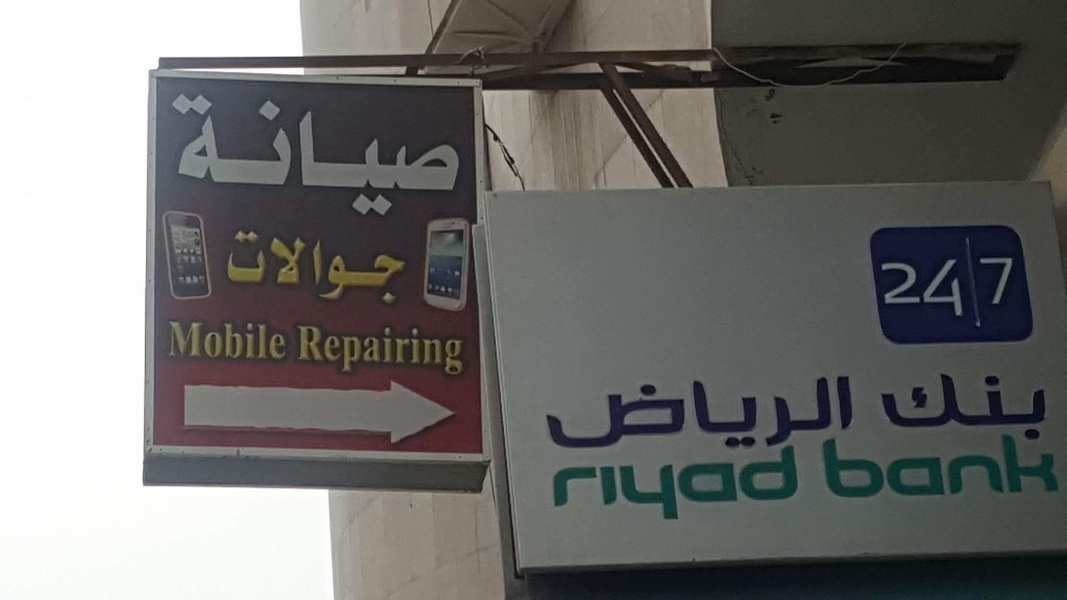text: (449, 91, 465, 220), (177, 91, 192, 220), (193, 91, 208, 220), (209, 91, 224, 220), (225, 91, 240, 220), (241, 91, 256, 220), (257, 91, 272, 220), (273, 91, 288, 220), (289, 91, 304, 220), (305, 91, 320, 220), (321, 91, 336, 220), (337, 91, 352, 220), (353, 91, 368, 220), (369, 91, 384, 220), (385, 91, 400, 220), (401, 91, 416, 220), (417, 91, 432, 220), (433, 91, 448, 220), (561, 444, 576, 524), (577, 444, 592, 524), (593, 444, 608, 524), (609, 444, 624, 524), (625, 444, 640, 524), (641, 444, 656, 524), (657, 444, 672, 524), (673, 444, 688, 524), (689, 444, 704, 524), (705, 444, 720, 524), (721, 444, 736, 524), (737, 444, 752, 524), (753, 444, 768, 524), (769, 444, 784, 524), (785, 444, 800, 524), (225, 226, 240, 306), (241, 226, 256, 306), (257, 226, 272, 306), (273, 226, 288, 306), (289, 226, 304, 306), (305, 226, 320, 306), (321, 226, 336, 306), (337, 226, 352, 306), (353, 226, 368, 306), (369, 226, 384, 306), (385, 226, 400, 306), (545, 375, 560, 453), (561, 375, 576, 453), (577, 375, 592, 453), (593, 375, 608, 453), (609, 375, 624, 453), (625, 375, 640, 453), (641, 375, 656, 453), (657, 375, 672, 453), (673, 375, 688, 453), (689, 375, 704, 453), (705, 375, 720, 453), (721, 375, 736, 453), (737, 375, 752, 453), (753, 375, 768, 453), (769, 375, 784, 453), (785, 375, 800, 453), (801, 375, 816, 453), (817, 375, 832, 453), (833, 375, 848, 453), (833, 431, 848, 503), (849, 431, 864, 503), (865, 431, 880, 503), (881, 431, 896, 503), (897, 431, 912, 503), (913, 431, 928, 503), (929, 431, 944, 503), (945, 431, 960, 503), (961, 431, 976, 503), (977, 431, 992, 503), (993, 431, 1008, 503), (1009, 431, 1024, 503), (1025, 431, 1040, 503), (1041, 431, 1056, 503), (881, 371, 896, 442), (897, 371, 912, 442), (913, 371, 928, 442), (929, 371, 944, 442), (945, 371, 960, 442), (961, 371, 976, 442), (977, 371, 992, 442), (993, 371, 1008, 442), (1009, 371, 1024, 442), (1025, 371, 1040, 442), (401, 226, 413, 306), (881, 258, 896, 318), (897, 258, 912, 318), (913, 258, 928, 318), (929, 258, 944, 318), (945, 258, 960, 318), (305, 321, 320, 376), (321, 321, 336, 376), (337, 321, 352, 376), (353, 321, 368, 376), (369, 321, 384, 376), (385, 321, 400, 376), (401, 321, 416, 376), (417, 321, 432, 376), (433, 321, 448, 376), (449, 321, 464, 376), (977, 253, 992, 308), (993, 253, 1008, 308), (821, 431, 832, 503), (551, 444, 560, 524), (177, 321, 192, 360), (193, 321, 208, 360), (209, 321, 224, 360), (225, 321, 240, 360), (241, 321, 256, 360), (257, 321, 272, 360), (273, 321, 288, 360), (1041, 371, 1048, 442), (296, 321, 304, 376), (1009, 253, 1017, 308), (1057, 431, 1063, 503), (849, 375, 854, 453), (173, 91, 176, 220), (875, 371, 880, 442), (169, 321, 176, 360), (961, 258, 965, 318), (542, 375, 544, 453), (801, 444, 802, 524), (879, 258, 880, 318), (465, 321, 466, 376)
